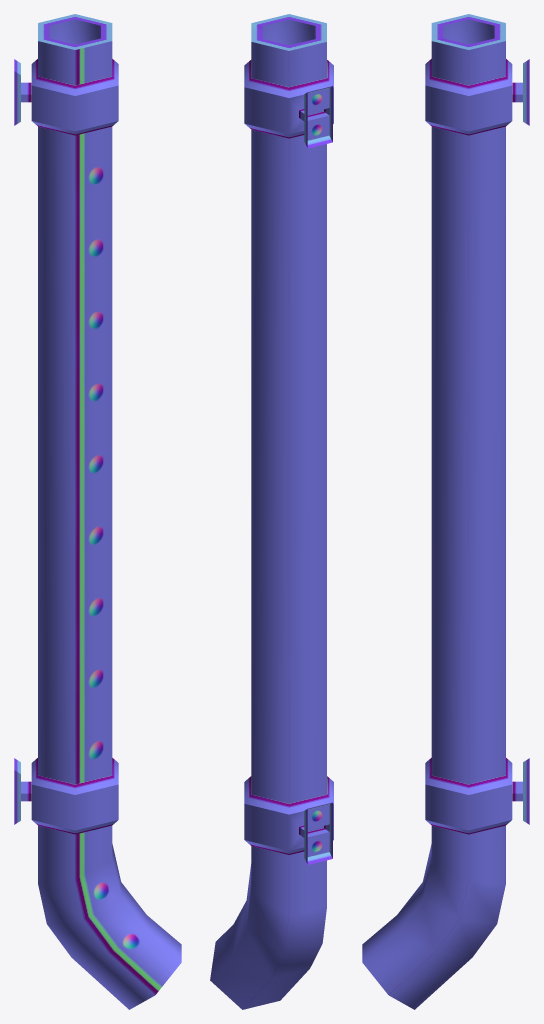
Rendered from sm_gutter_01.fbx.
The picture shows the model from 3 angles, left to right: view 1: azimuth 90°, elevation 25°; view 2: azimuth 210°, elevation 25°; view 3: azimuth 270°, elevation 25°; orthographic projection. The views are drawn at different scales.
Visible parts, largest first — view 1: sm_gutter_01; view 2: sm_gutter_01; view 3: sm_gutter_01.
Part boxes in pixels (x1,y1,x2,y2): sm_gutter_01: [14, 14, 181, 1009]; sm_gutter_01: [210, 14, 333, 1009]; sm_gutter_01: [362, 14, 529, 1009].
Size of the model in its own units: 27.33 by 290 by 45.36.
1 material, 1 textured.
